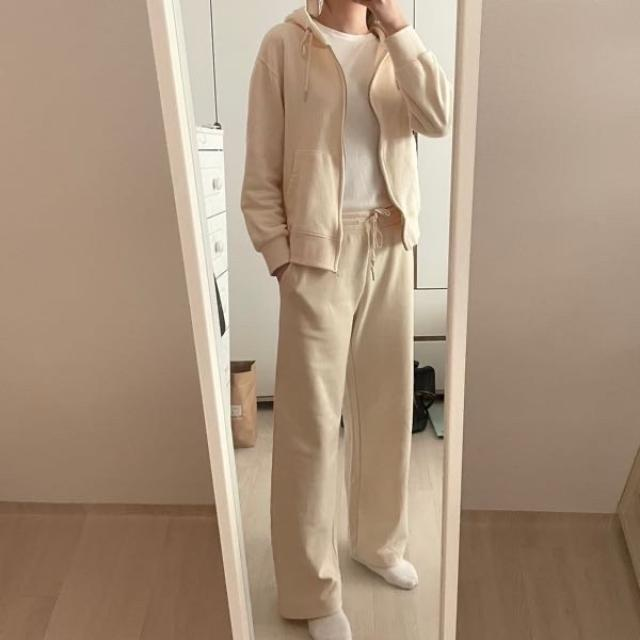trainingpants: (271, 210, 416, 621)
zipup: (245, 4, 451, 276)
